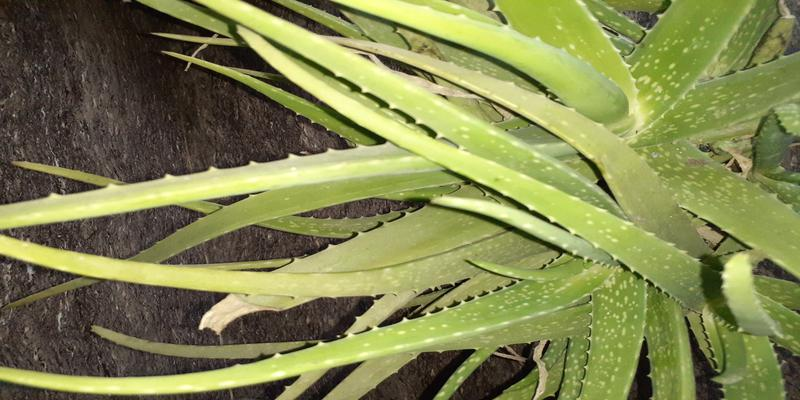Aloevera: (154, 16, 795, 379)
